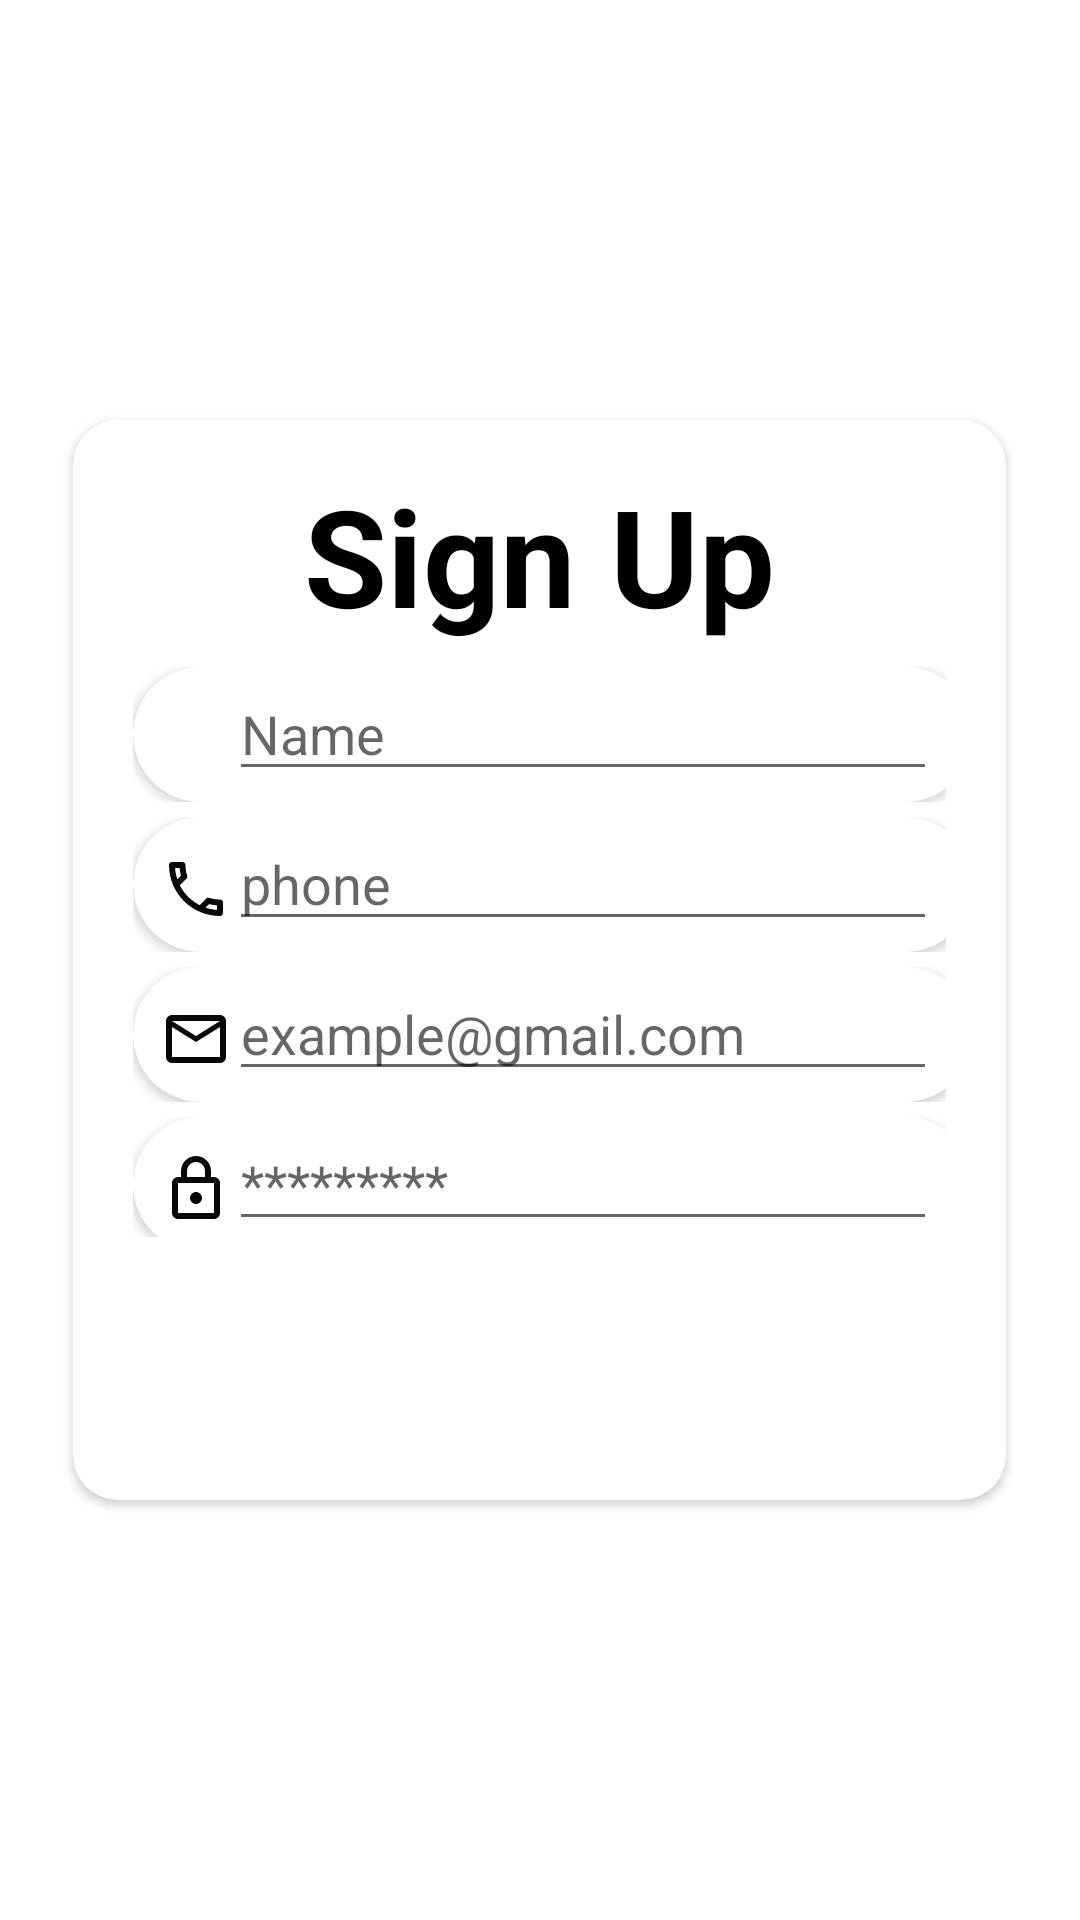

Icon bounding boxes for this 1080 × 1920 phone screenshot, format (x1, y1, x2, y2):
email: (166, 1015, 226, 1063)
lock: (172, 1156, 220, 1219)
